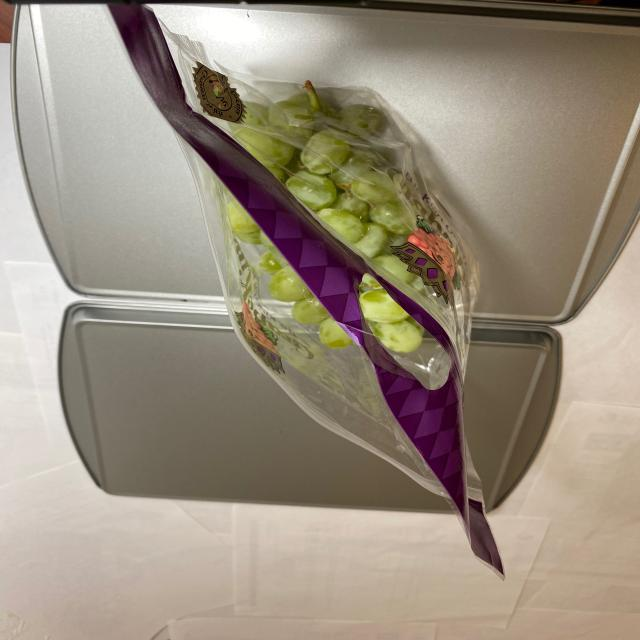grapes: (218, 87, 441, 376)
